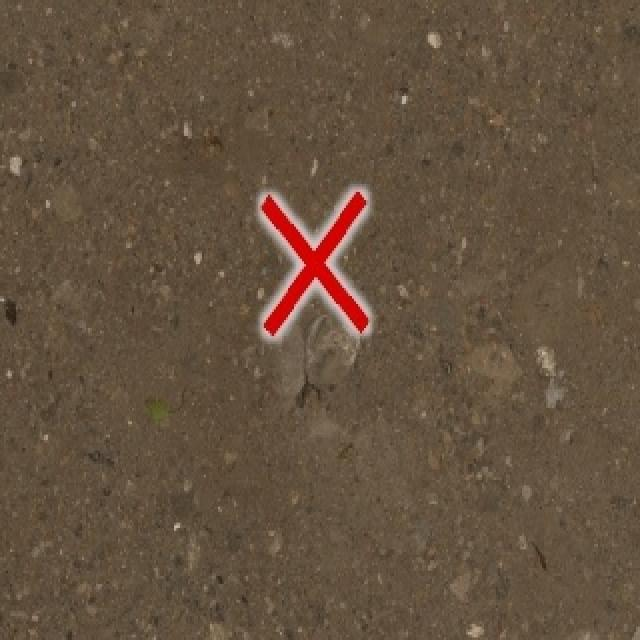x_marker: (261, 190, 367, 334)
